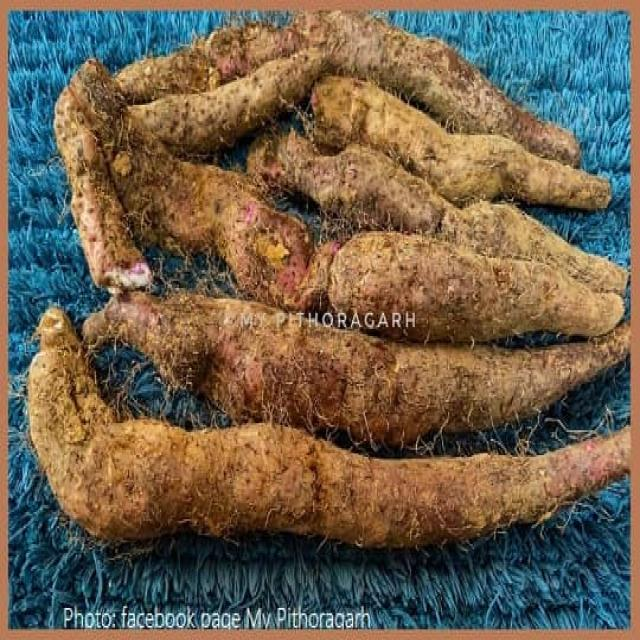Yam: (111, 190, 640, 510), (49, 61, 556, 380), (30, 300, 588, 574)
